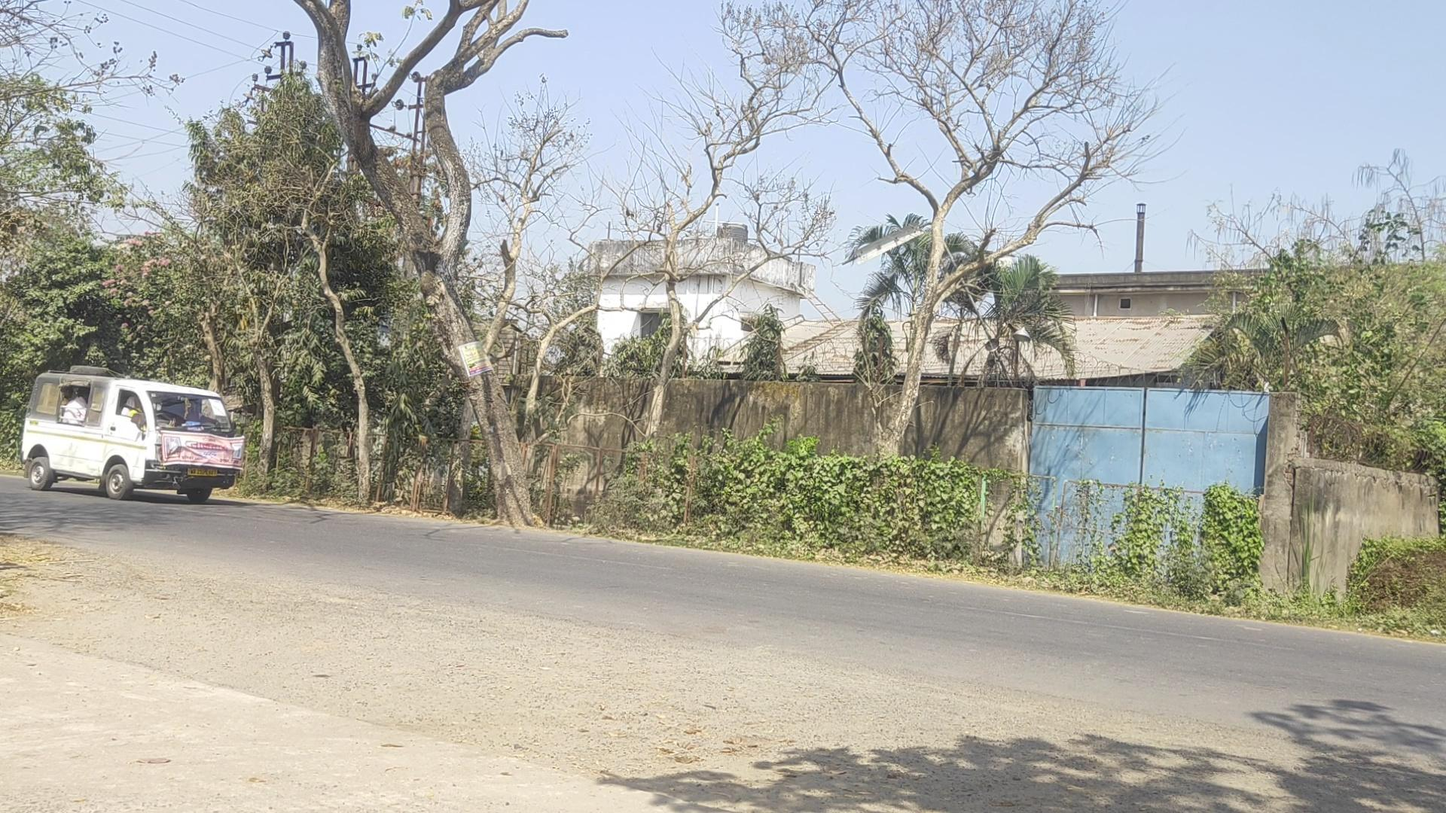van: (20, 366, 244, 503)
